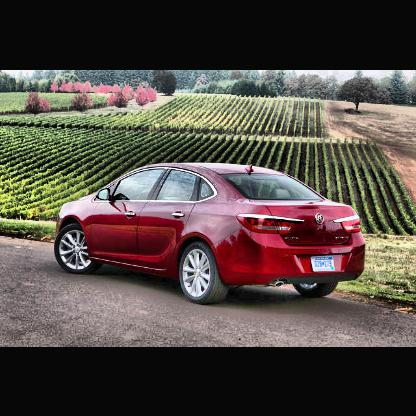Buick Verano Sedan 2012: (53, 163, 369, 308)
